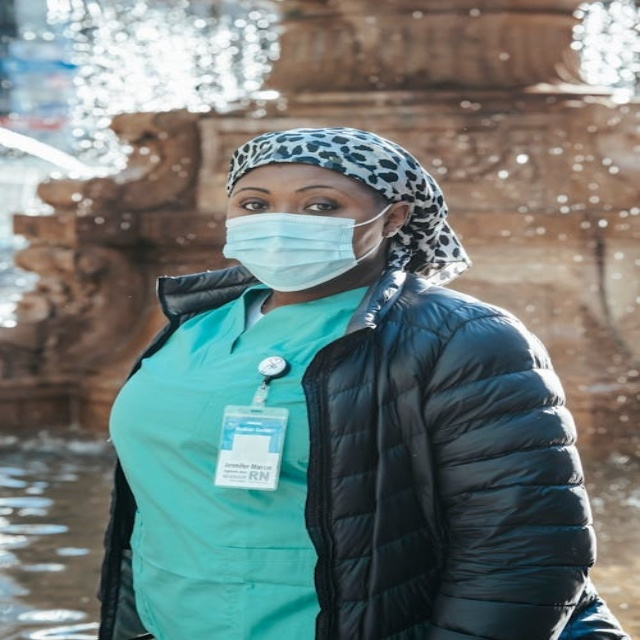Mascara: (222, 205, 383, 291)
Sin_gafas: (230, 183, 361, 215)
